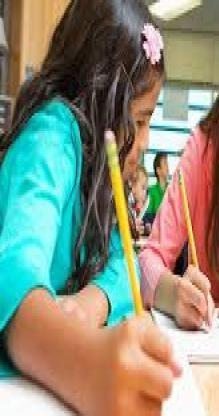cheating: (0, 2, 186, 415)
